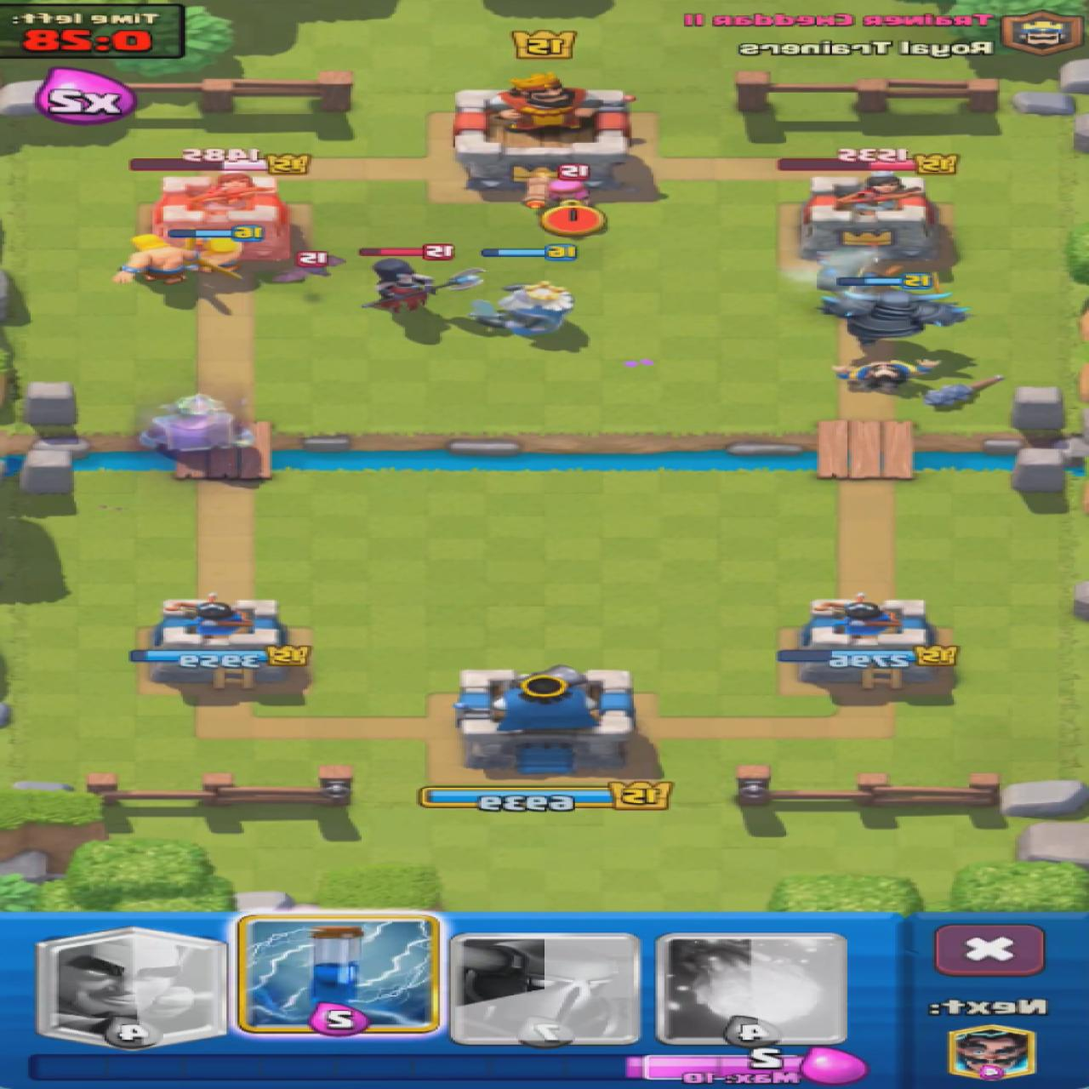Enemy-Firecracker: (520, 177, 594, 210)
Enemy-KingTower: (453, 73, 629, 196)
Enemy-NightWitch: (359, 258, 489, 315)
Enemy-PrincessTower: (148, 174, 297, 261), (799, 176, 941, 260)
